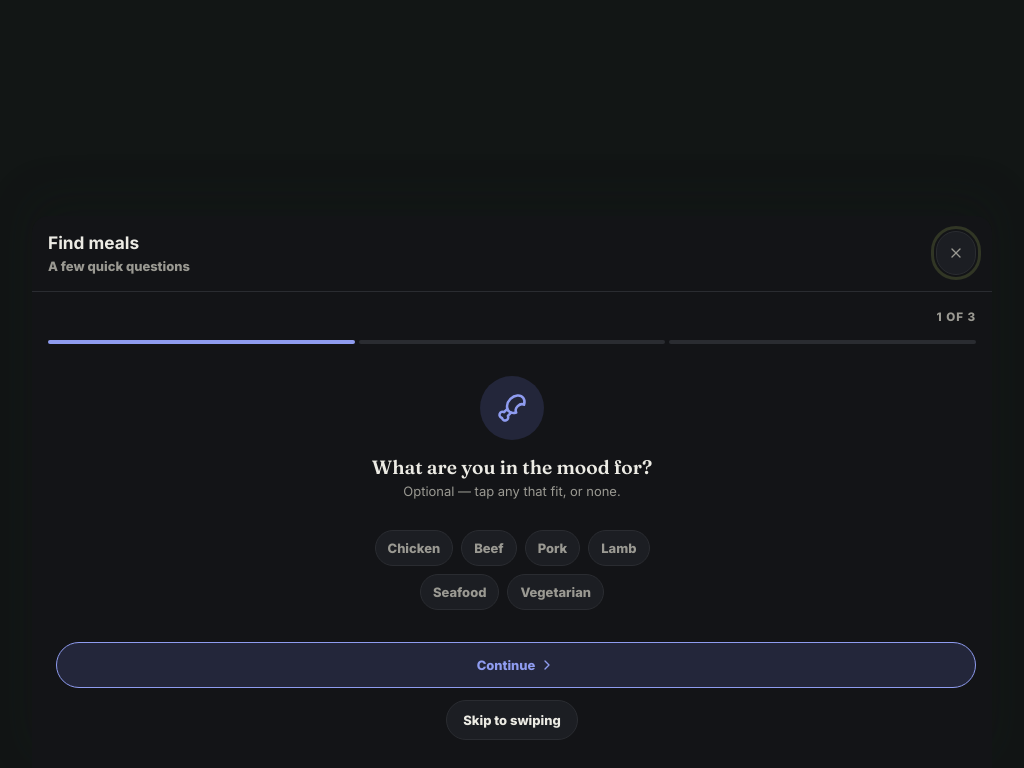
Test case: RecipeDiscoverySheet › narrows the deck by tag filter
Click the button "Skip to swiping".
click(512, 720)  # box x1=446 y1=700 x2=578 y2=740
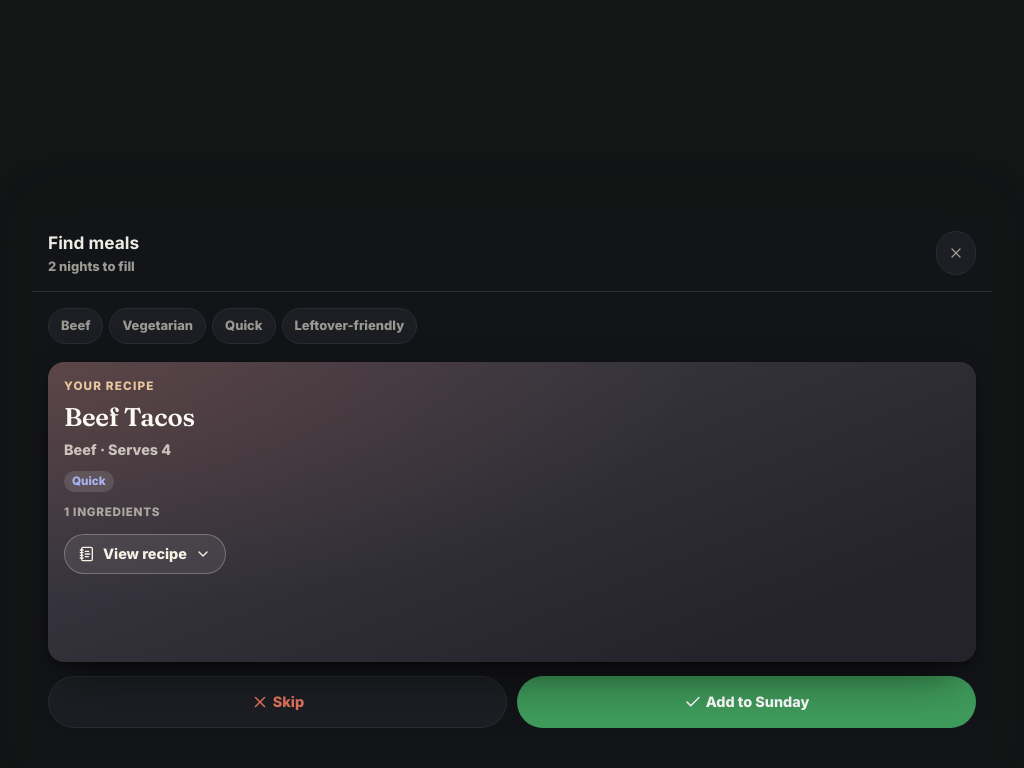
Click the button "Vegetarian".
click(158, 326)  # box x1=110 y1=308 x2=206 y2=344
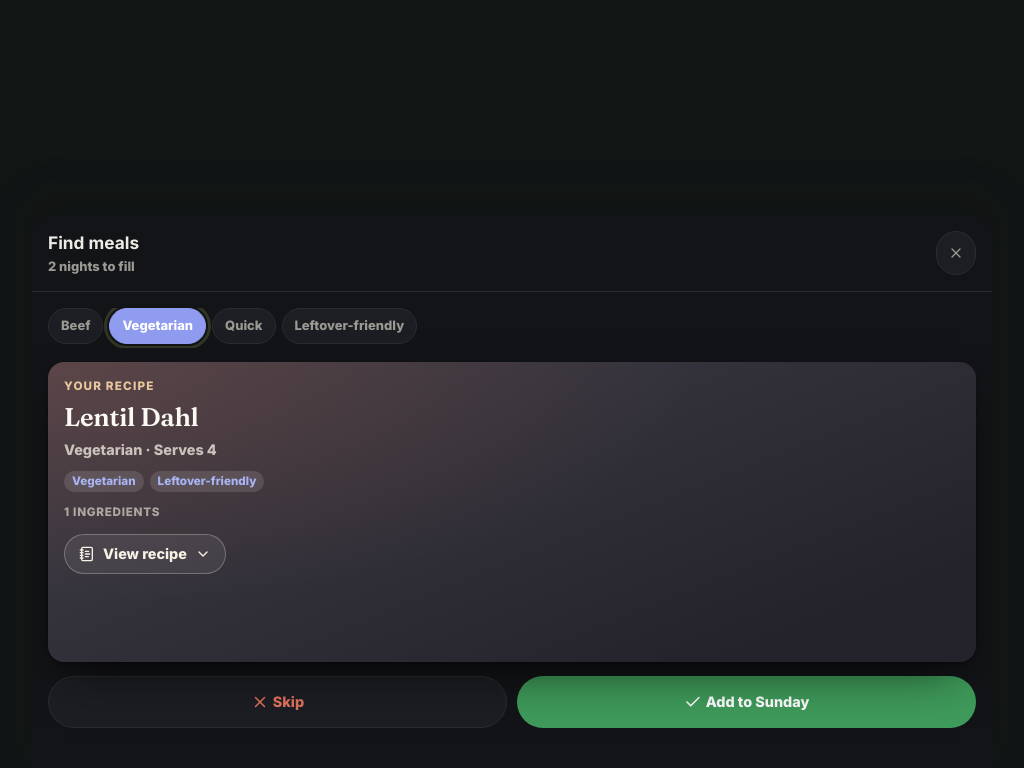
Result: the text "Lentil Dahl" is shown at x1=64 y1=400 x2=198 y2=432
Result: the text "Beef Tacos" is gone
